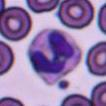N: (28, 28, 82, 83)
